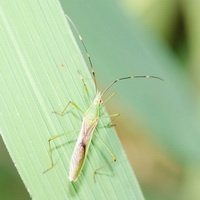insect: (53, 75, 162, 181)
